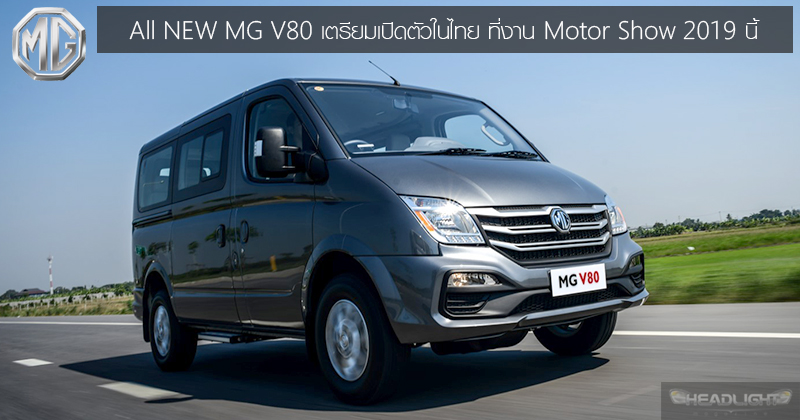van: (131, 75, 651, 405)
